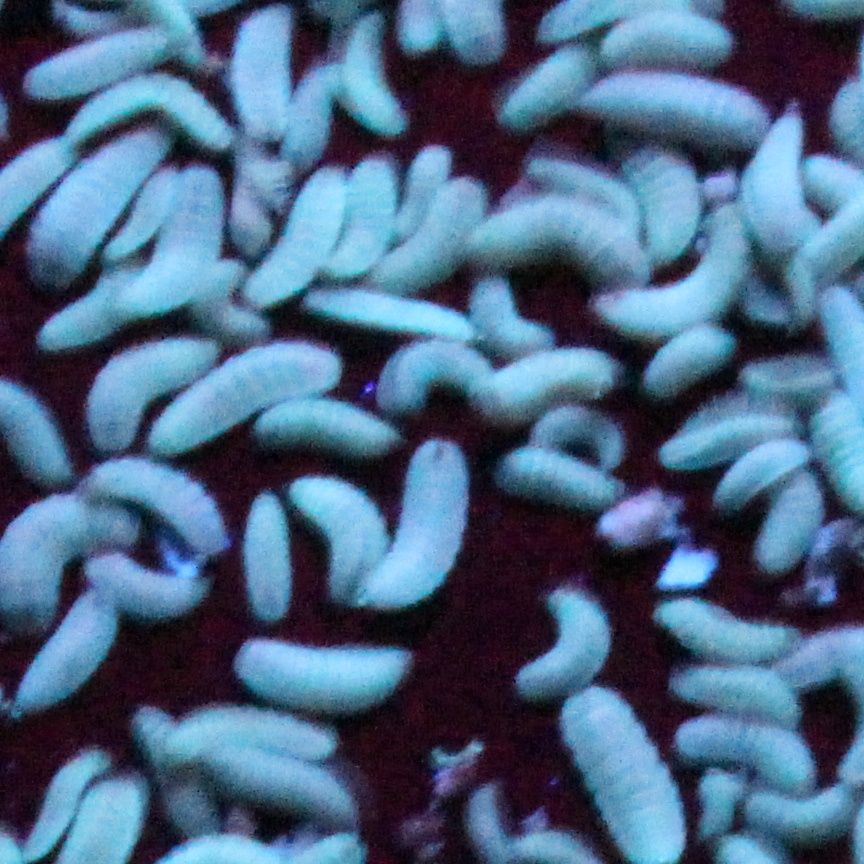larve: (564, 699, 687, 864), (31, 140, 165, 277), (471, 202, 650, 292), (612, 228, 758, 335), (160, 351, 329, 442), (386, 436, 470, 606), (236, 634, 410, 715), (134, 166, 228, 315), (583, 76, 768, 148), (292, 473, 395, 602), (10, 598, 127, 711), (90, 460, 231, 553), (251, 173, 344, 302), (25, 25, 175, 103), (128, 706, 214, 835), (738, 114, 815, 256), (154, 711, 338, 769), (211, 744, 348, 820), (72, 341, 185, 433), (335, 18, 420, 137), (499, 343, 626, 420), (402, 174, 494, 277), (685, 720, 814, 793), (597, 11, 742, 73), (45, 257, 146, 344), (527, 586, 608, 693), (625, 148, 702, 255), (672, 404, 797, 469), (231, 13, 293, 141), (650, 603, 793, 657), (74, 94, 233, 142), (343, 286, 483, 339), (378, 345, 492, 410), (99, 558, 209, 625), (671, 666, 798, 723), (504, 46, 594, 125), (471, 279, 571, 348), (495, 448, 603, 511), (756, 488, 828, 577), (243, 496, 292, 624), (335, 166, 394, 271), (259, 406, 382, 456), (653, 327, 738, 392), (722, 440, 811, 500), (115, 173, 187, 245), (531, 409, 629, 460), (752, 793, 852, 841), (293, 63, 338, 169), (399, 145, 445, 240), (30, 750, 76, 839)
